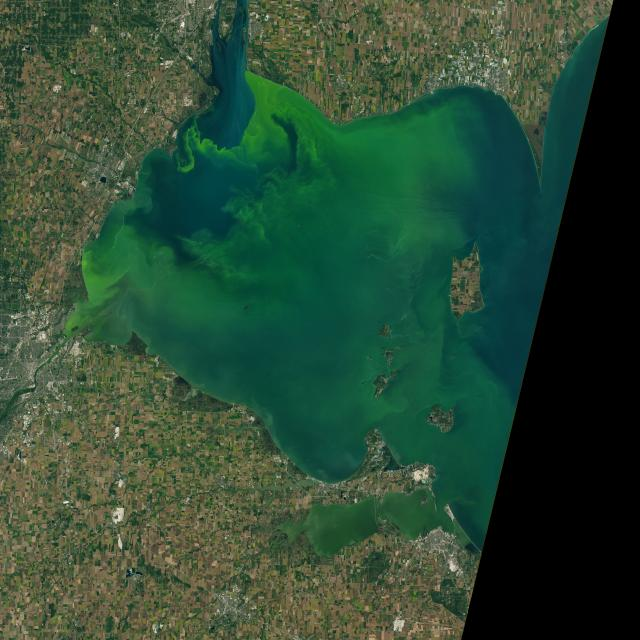algal: (65, 0, 599, 481), (280, 489, 444, 556)
